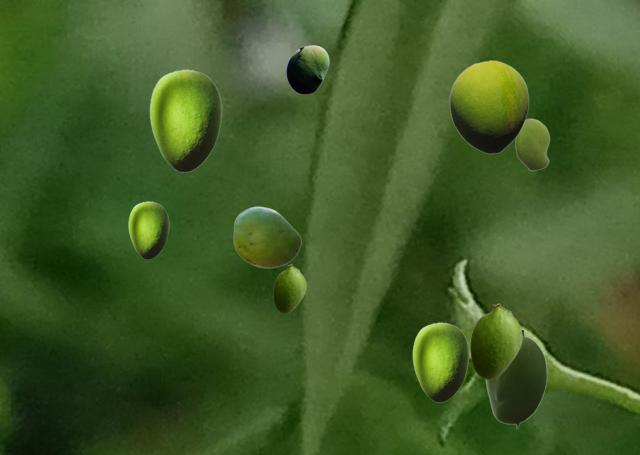green_mango: (449, 60, 528, 153), (149, 69, 221, 171), (485, 330, 546, 428), (412, 322, 468, 401), (233, 206, 300, 267), (470, 303, 521, 378), (128, 201, 168, 258), (286, 45, 328, 93), (515, 118, 549, 170), (273, 264, 305, 312)
